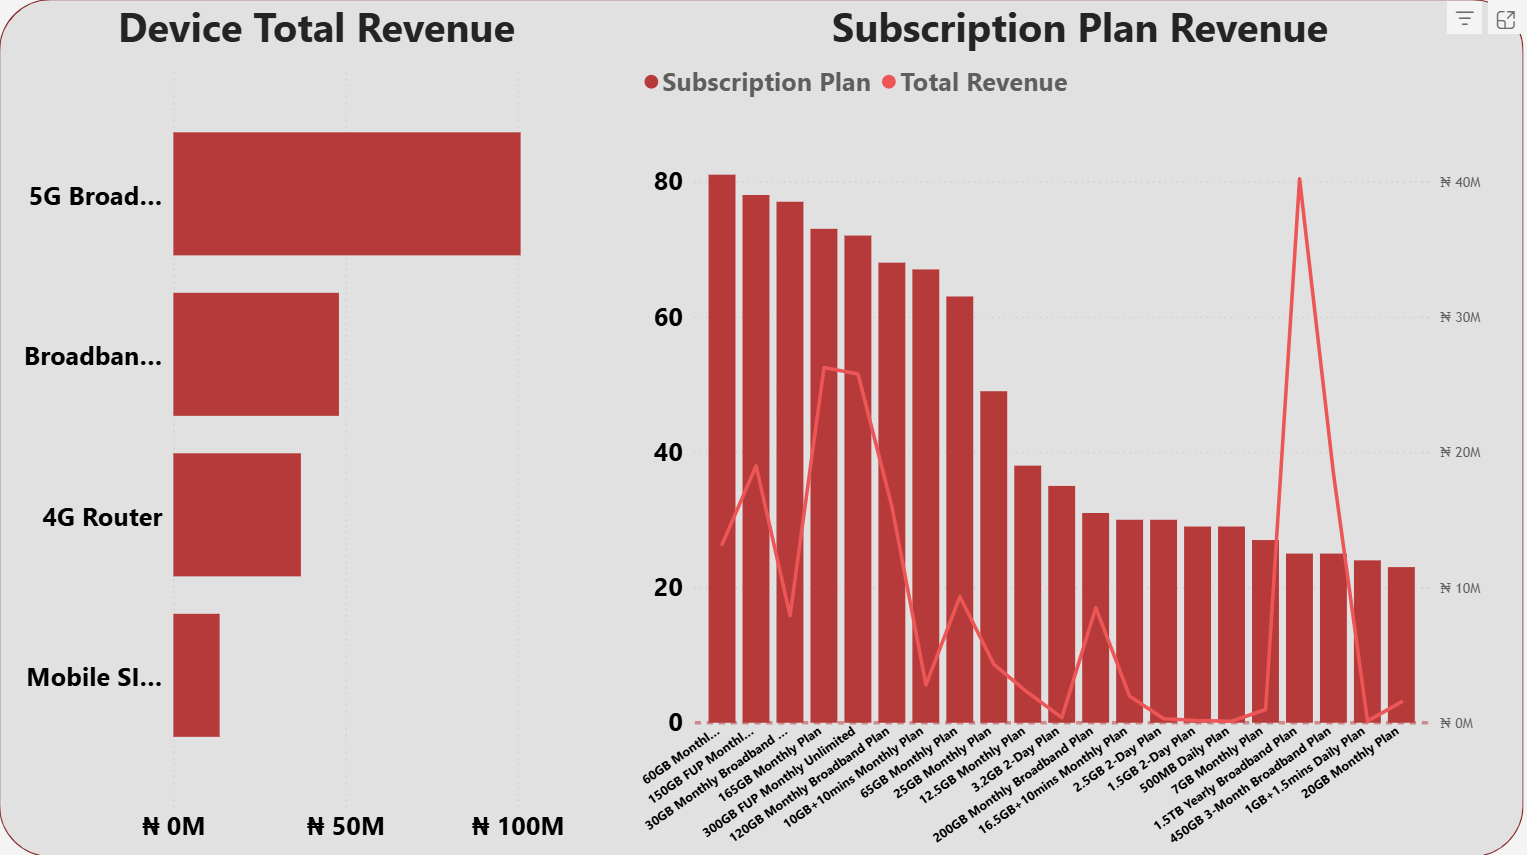

Layout of this report page (visuals, bound fields, positions):
{"tool":"powerbi","page":{"name":"Device & Plan Revenue","canvas":[1280,720],"ordinal":1},"visuals":[{"type":"shape","title":"background color","box":[0,0,1279.4,720.1],"z":0},{"type":"lineClusteredColumnComboChart","title":"Subscription Plan Revenue","fields":{"Category":["mtn_customer_churn.Subscription Plan"],"Y2":["Sum(mtn_customer_churn.Total Revenue)"],"Y":["CountNonNull(mtn_customer_churn.Subscription Plan)"]},"box":[533.3,0,746.7,720],"z":1000},{"type":"clusteredBarChart","title":"Device Total Revenue","fields":{"Category":["mtn_customer_churn.MTN Device"],"Y":["Sum(mtn_customer_churn.Total Revenue)"]},"box":[0,0,532.8,719.2],"z":2000}]}

Visuals, with their boxes in screenshot pixels (x1, y1, x2, y2), scaled from the page's 1280x720 canvas onto the 1527x855 screenshot:
"background color" shape: <bbox>0, 0, 1526, 854</bbox>
"Subscription Plan Revenue" lineClusteredColumnComboChart: <bbox>636, 0, 1526, 854</bbox>
"Device Total Revenue" clusteredBarChart: <bbox>0, 0, 636, 854</bbox>
